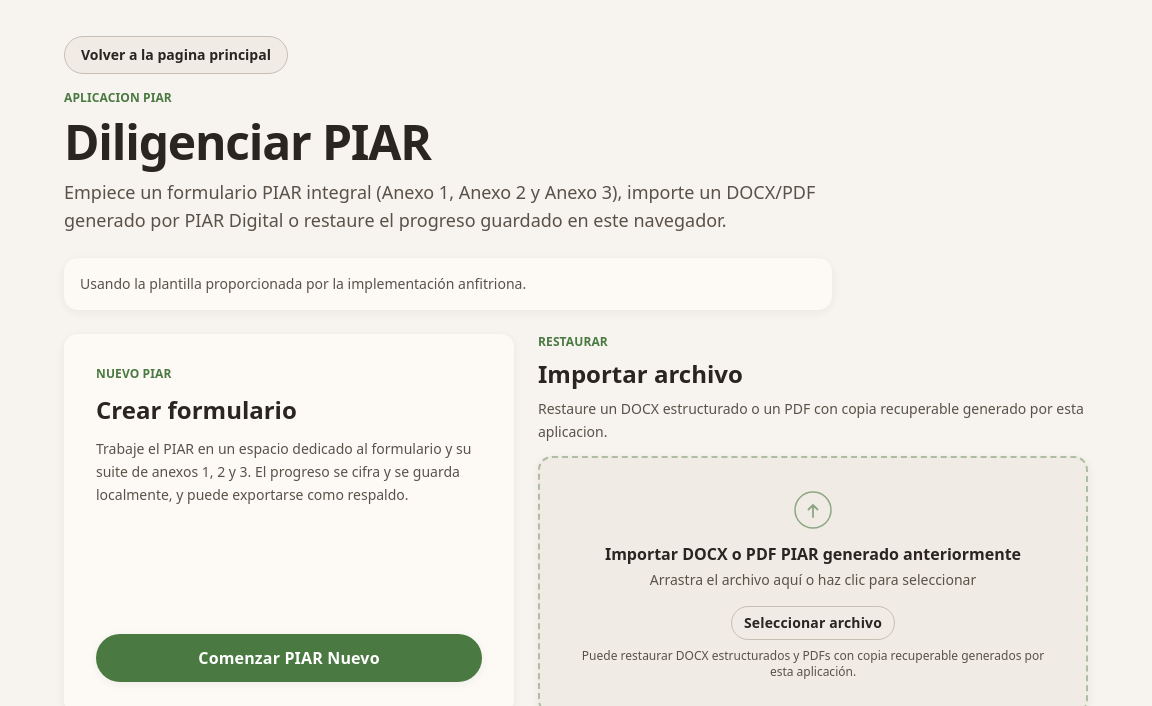
Test case: Landing and restore smoke › shows restore prompt and restores previously saved progress
Click the button "Comenzar PIAR Nuevo" at {"x": 289, "y": 658}, box [96,634,482,682]
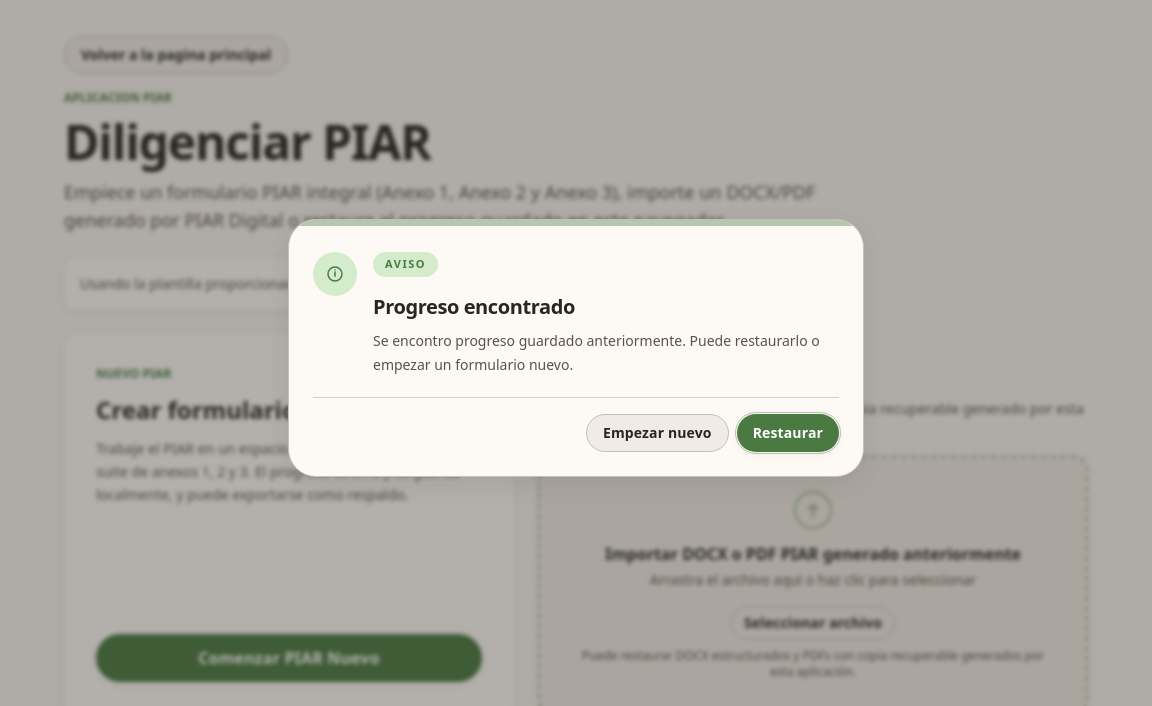
Check: the dialog "Progreso encontrado" is shown, box [288,219,864,477]
Click the button "Restaurar" at {"x": 788, "y": 433}, box [737,414,839,452]
(page scrolled)
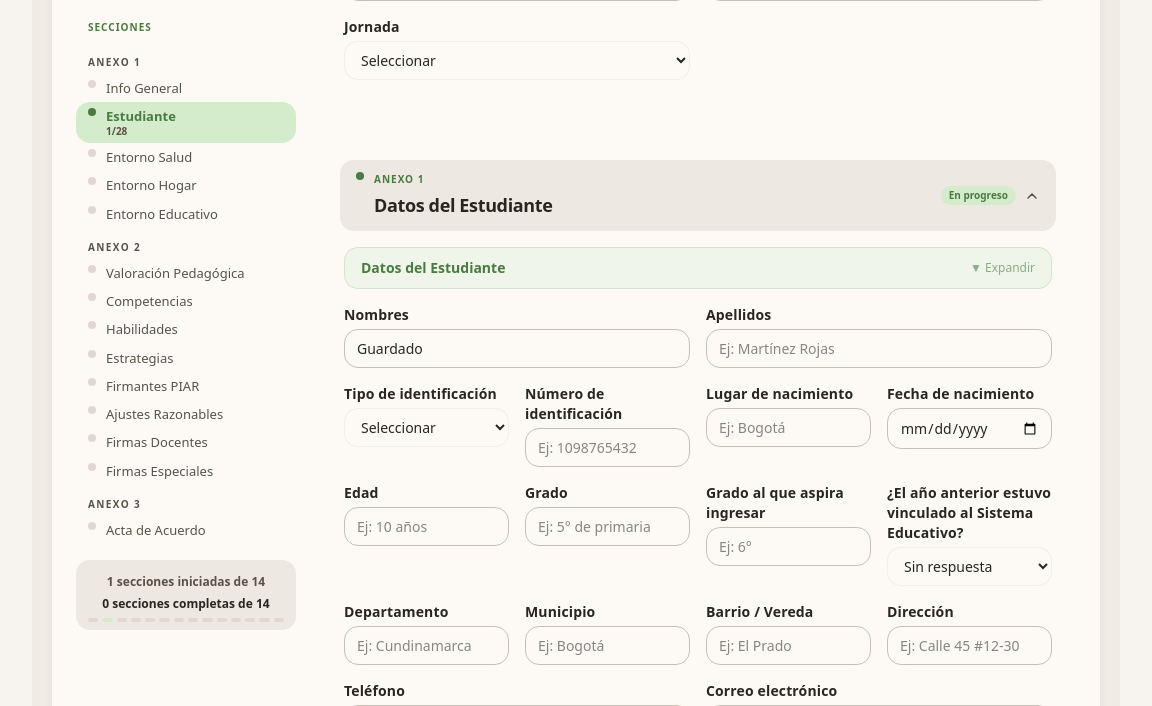
Check: the field labelled "Nombres" holds "Guardado", box [344,329,690,368]
